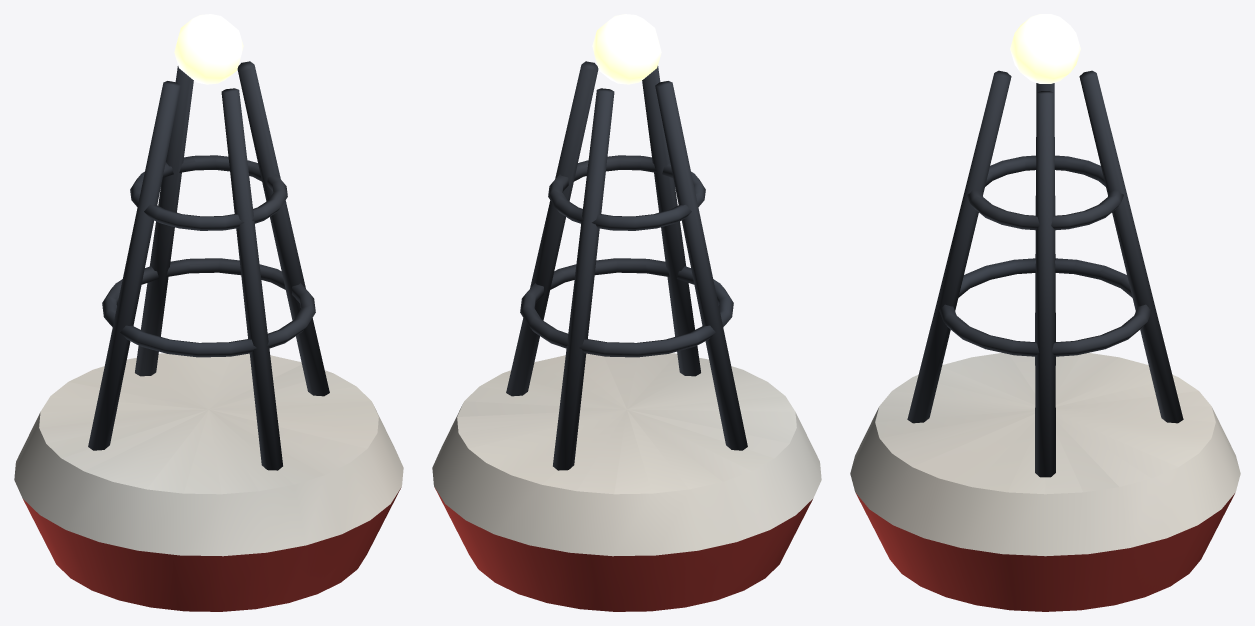
The model's file is shore_buoy.glb.
The picture shows the model from 3 angles, left to right: view 1: azimuth 30°, elevation 25°; view 2: azimuth 150°, elevation 25°; view 3: azimuth 270°, elevation 25°; orthographic projection.
Parts seen in each view (by area): view 1: shore_buoy; view 2: shore_buoy; view 3: shore_buoy.
Boxes of the visible parts, x1,y1,x2,y2 form: shore_buoy: [14, 14, 403, 611]; shore_buoy: [432, 14, 821, 611]; shore_buoy: [850, 14, 1240, 611].
Bounding box in the file's own units: 11 × 16.8 × 11.
